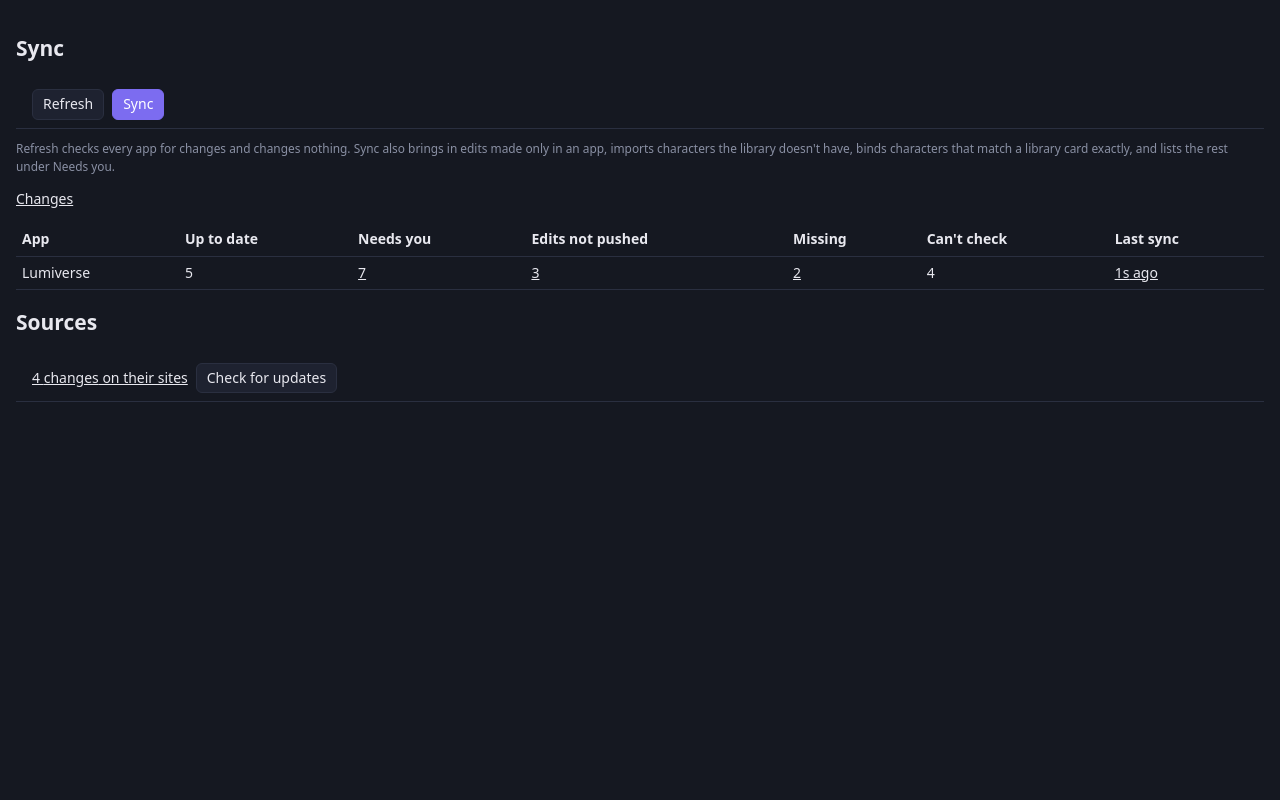
Test: Refresh starts a scan
Click the button "Refresh" at (68, 104), box x1=32 y1=89 x2=104 y2=120
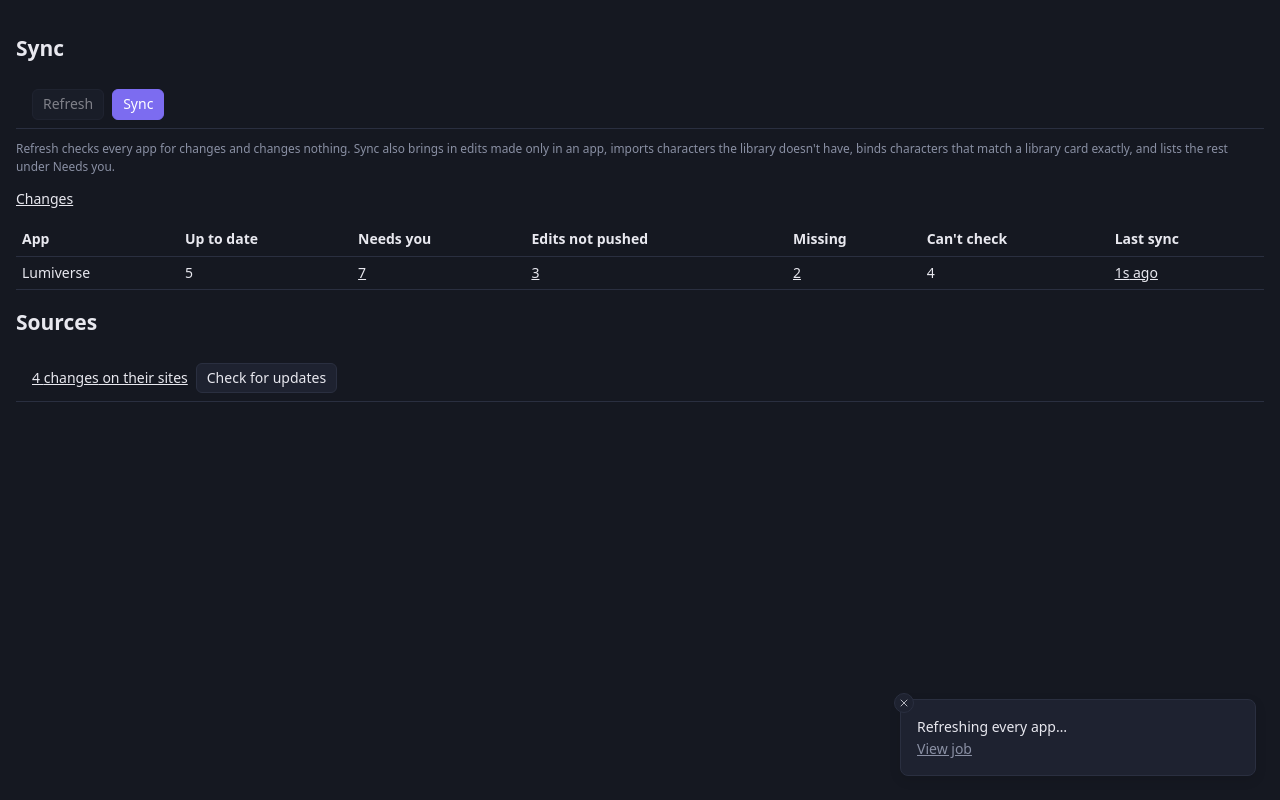
Now the text "Refreshing every app…" is shown, box x1=917 y1=716 x2=1067 y2=737
